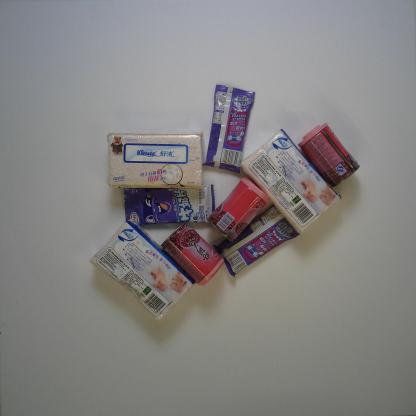Candy: (210, 201, 302, 278), (201, 83, 256, 173), (122, 180, 220, 228)
Canned Food: (207, 172, 270, 242), (298, 122, 361, 190), (160, 222, 225, 286)
Tissue: (239, 126, 342, 235), (88, 219, 197, 322), (104, 130, 205, 191)
